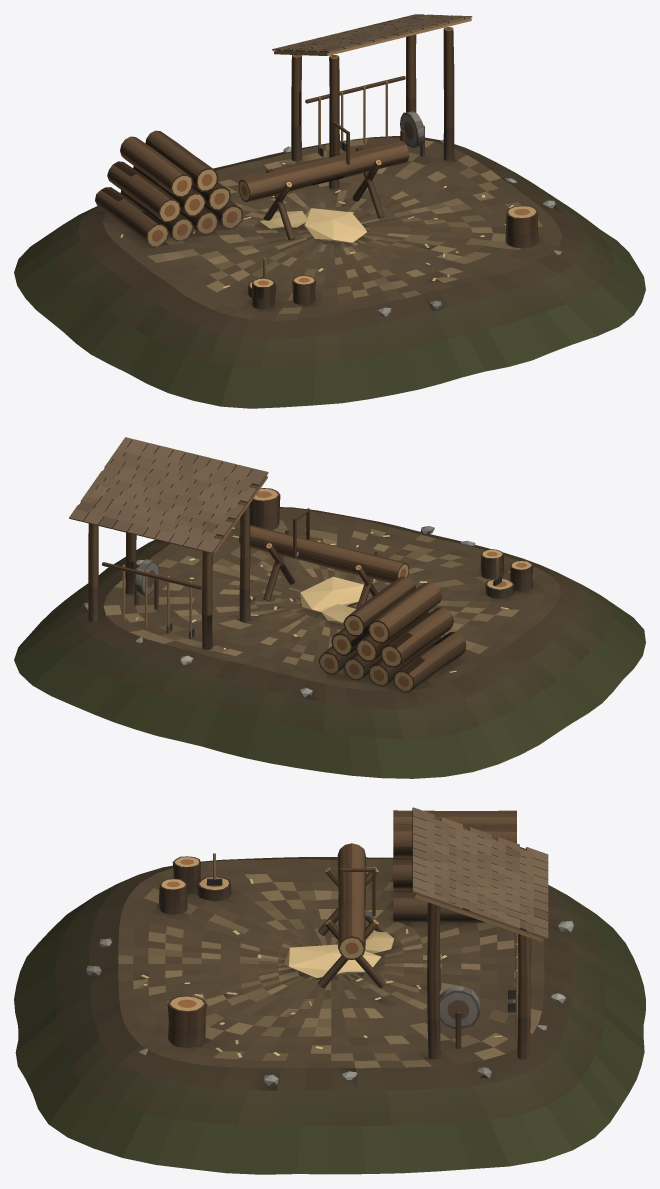
File: oduncu.glb
3 views of the same model, one above another, from view 1: azimuth 30°, elevation 25°; view 2: azimuth 150°, elevation 25°; view 3: azimuth 270°, elevation 25° (orthographic). The views are drawn at different scales.
Parts seen in each view (by area): view 1: stone-ground-001, log-deck-003, log-work-002, shingle-001, log-stools-001, wood-heap-005, log-006, log-005, wood-007, log-004, wood-grind-008, log-007 (+2 smaller); view 2: stone-ground-001, shingle-001, log-deck-003, log-work-002, log-stools-001, wood-heap-005, log-004, wood-007, log-007, log-005, wood-grind-008, wood-003 (+3 smaller); view 3: stone-ground-001, shingle-001, log-deck-003, log-stools-001, log-work-002, log-006, wood-heap-005, wood-grind-008, log-007, stone-found-002, wood-003, log-008 (+2 smaller).
Boxes of the visible parts, <box> form: stone-ground-001: <box>14,136,645,408</box>; log-deck-003: <box>95,130,242,247</box>; log-work-002: <box>238,141,409,201</box>; shingle-001: <box>272,14,472,55</box>; log-stools-001: <box>252,205,538,309</box>; wood-heap-005: <box>303,208,367,243</box>; log-006: <box>443,27,454,160</box>; log-005: <box>291,55,302,161</box>; wood-007: <box>305,76,405,156</box>; log-004: <box>329,55,339,188</box>; wood-grind-008: <box>400,111,424,156</box>; log-007: <box>406,34,416,112</box>; stone-ground-001: <box>14,507,645,778</box>; shingle-001: <box>69,437,268,553</box>; log-deck-003: <box>318,576,466,692</box>; log-work-002: <box>239,525,408,583</box>; log-stools-001: <box>250,488,533,591</box>; wood-heap-005: <box>300,576,363,612</box>; log-004: <box>239,504,250,622</box>; wood-007: <box>102,562,201,639</box>; log-007: <box>88,523,98,622</box>; log-005: <box>202,551,212,649</box>; wood-grind-008: <box>134,559,159,609</box>; wood-003: <box>263,530,295,601</box>; stone-ground-001: <box>14,857,645,1174</box>; shingle-001: <box>412,807,548,941</box>; log-deck-003: <box>393,810,516,922</box>; log-stools-001: <box>159,856,206,1047</box>; log-work-002: <box>337,843,366,959</box>; log-006: <box>427,902,440,1059</box>; wood-heap-005: <box>284,944,381,978</box>; wood-grind-008: <box>439,986,480,1048</box>; log-007: <box>517,933,530,1059</box>; stone-found-002: <box>86,921,574,1085</box>; wood-003: <box>318,919,385,988</box>; log-008: <box>197,853,231,901</box>.
Bounding box in the file's own units: 10.28 × 3.8 × 9.2.
